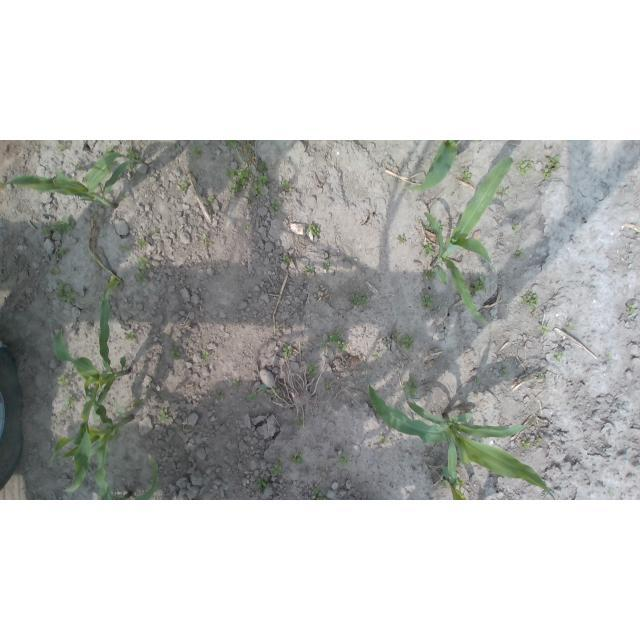Maize: (366, 374, 556, 500), (47, 280, 131, 468), (423, 157, 514, 324), (55, 393, 134, 500), (0, 152, 142, 208), (404, 141, 459, 192), (98, 454, 158, 500), (441, 438, 468, 500)
Weeds: (231, 169, 253, 196), (55, 284, 79, 303), (246, 385, 266, 404), (253, 174, 270, 196), (51, 220, 75, 235), (404, 375, 420, 397), (521, 292, 540, 309), (516, 157, 532, 176), (400, 332, 415, 352), (350, 293, 369, 307), (420, 292, 436, 308), (328, 329, 344, 344), (471, 276, 485, 293), (546, 155, 561, 170), (136, 258, 151, 273), (425, 220, 438, 237), (537, 322, 552, 336), (56, 375, 70, 390), (336, 452, 349, 468), (306, 222, 320, 236), (312, 485, 325, 500), (64, 394, 77, 409), (135, 273, 150, 286), (109, 275, 123, 288), (127, 147, 140, 161), (256, 476, 268, 491), (271, 460, 283, 475), (424, 268, 437, 281), (460, 169, 472, 183), (268, 385, 280, 399), (56, 141, 67, 156), (256, 161, 269, 173), (292, 452, 304, 465), (626, 303, 639, 315), (223, 166, 236, 178), (136, 236, 148, 249), (520, 436, 531, 450), (191, 144, 202, 158), (270, 200, 281, 213), (199, 235, 213, 245), (424, 244, 434, 257), (170, 346, 180, 359), (336, 340, 346, 353), (159, 410, 169, 423), (554, 350, 564, 362), (514, 249, 524, 260), (304, 265, 314, 276), (308, 364, 318, 375), (282, 346, 292, 357), (279, 180, 291, 189), (500, 364, 509, 376), (124, 332, 136, 341), (243, 140, 252, 152), (179, 181, 188, 193), (565, 322, 575, 332), (120, 455, 129, 465), (42, 226, 51, 236), (544, 169, 552, 180), (201, 349, 209, 360), (226, 140, 237, 148), (104, 148, 115, 156), (58, 247, 69, 255), (380, 436, 388, 445), (52, 268, 60, 277), (296, 416, 304, 425), (232, 379, 240, 388), (394, 330, 401, 340), (322, 339, 329, 349), (133, 400, 141, 408), (120, 244, 128, 252), (323, 260, 330, 269), (325, 380, 332, 389), (536, 436, 543, 444), (398, 236, 405, 244), (513, 224, 520, 232), (501, 189, 508, 197), (216, 391, 224, 398), (119, 193, 129, 198), (208, 196, 215, 203), (284, 257, 291, 264), (442, 481, 449, 488), (246, 195, 252, 203), (537, 372, 543, 380), (437, 222, 443, 230), (606, 352, 612, 360), (243, 224, 249, 232), (72, 163, 80, 169), (375, 351, 381, 357), (151, 229, 157, 235), (57, 413, 64, 418), (476, 377, 481, 383), (130, 164, 136, 169), (320, 472, 325, 477), (471, 140, 476, 144)
